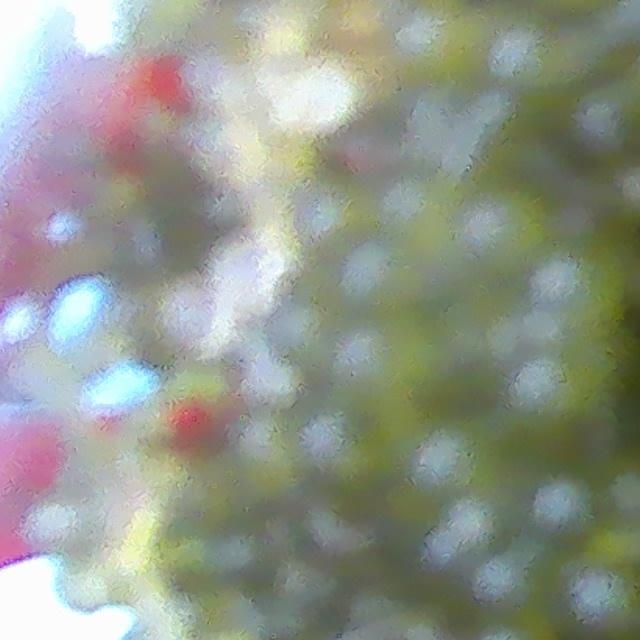SeaGrape: (456, 178, 553, 274), (326, 317, 407, 403), (266, 58, 350, 134), (149, 279, 219, 358), (336, 239, 410, 312), (532, 478, 589, 533)
